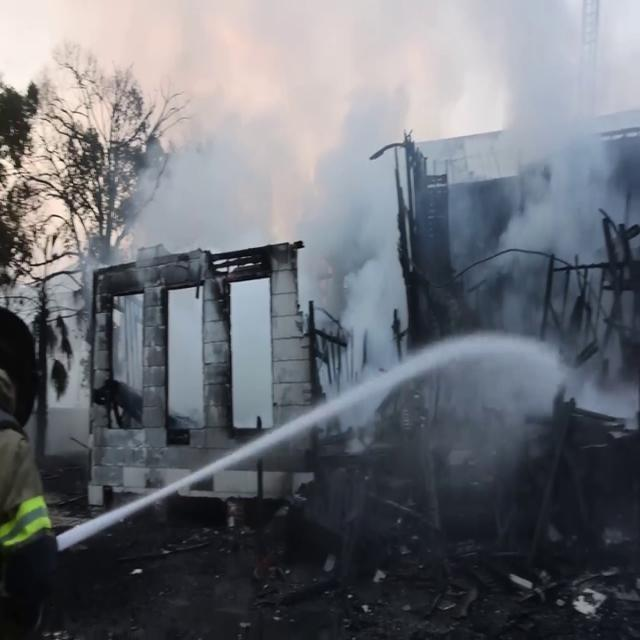Smoke: (93, 150, 504, 588)
